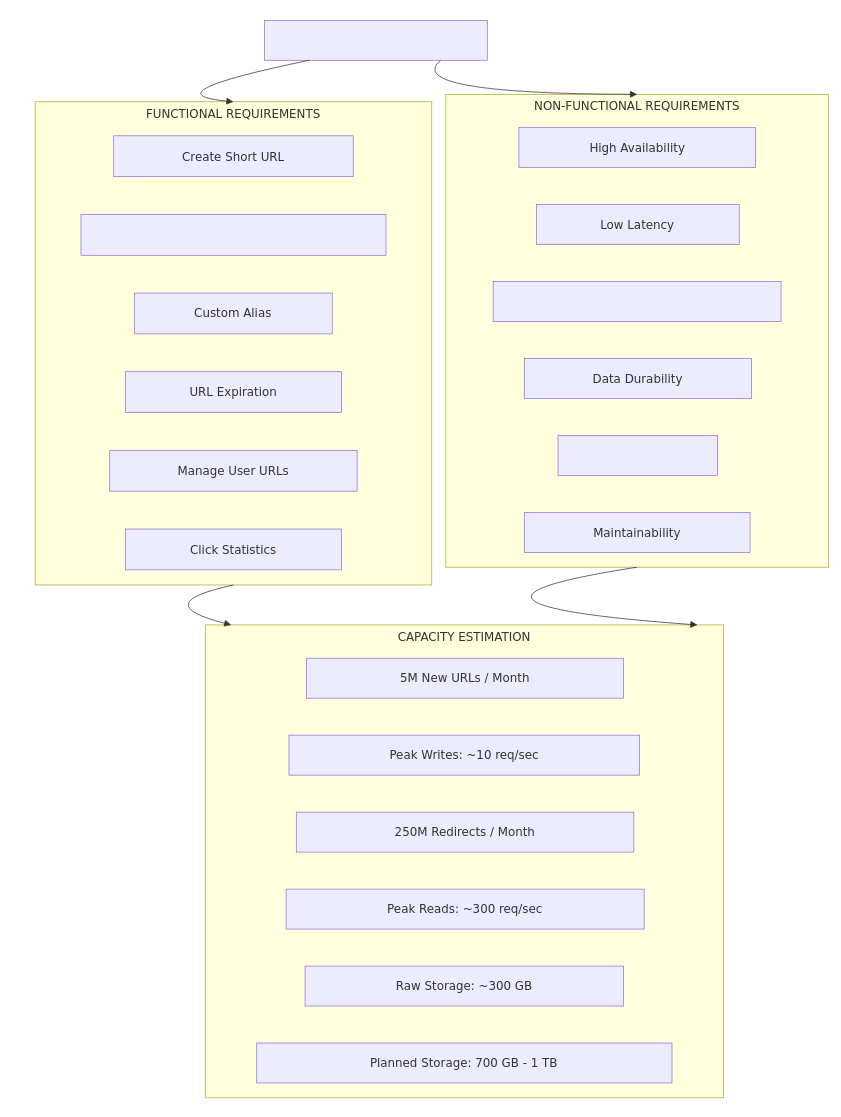
Image size: 841x1117. Some labels were removed from this diagram. Each missing label, with the centre of its shape:
Horizontal Scalability: point 636,301
Redirect to Original URL: point 233,234
Security: point 637,455
URL SHORTENER - SYSTEM DESIGN: point 375,40
